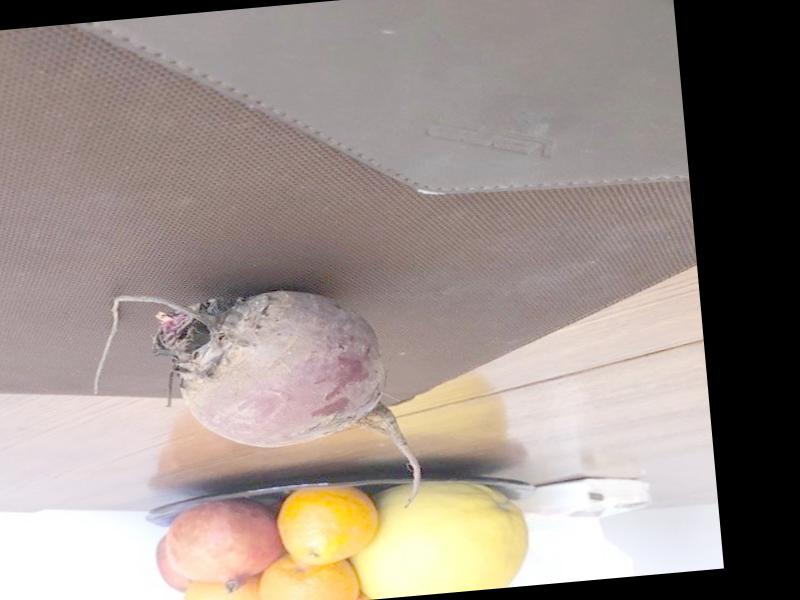Beet: (84, 270, 425, 536)
